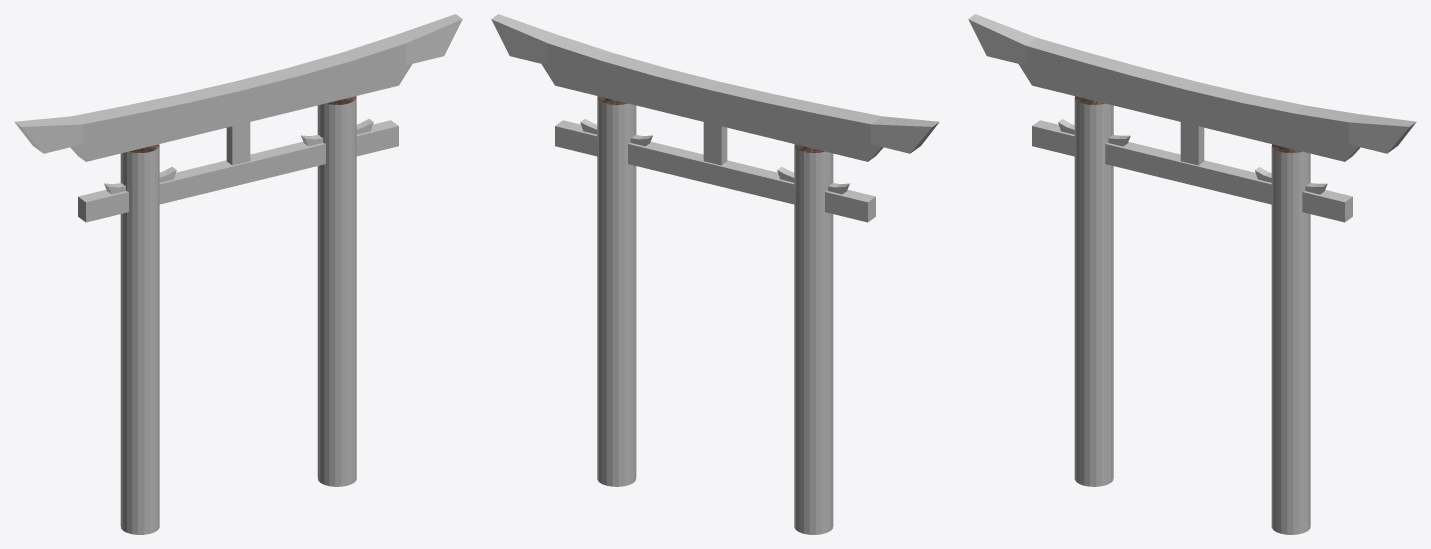
Rendered from garden little gate.fbx.
The picture shows the model from 3 angles, left to right: view 1: azimuth 30°, elevation 25°; view 2: azimuth 150°, elevation 25°; view 3: azimuth 330°, elevation 25°; orthographic projection.
Parts seen in each view (by area): view 1: Tori; view 2: Tori; view 3: Tori.
Boxes of the visible parts, <box> form: Tori: <box>14,14,462,534</box>; Tori: <box>491,14,939,534</box>; Tori: <box>968,14,1416,534</box>.
Size of the model in its own units: 3.06 by 2.87 by 0.2348.
